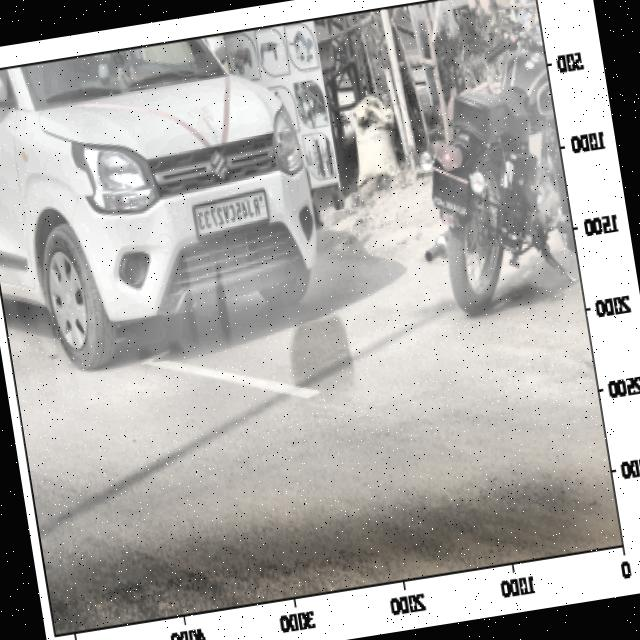license_plate: (191, 192, 269, 242)
